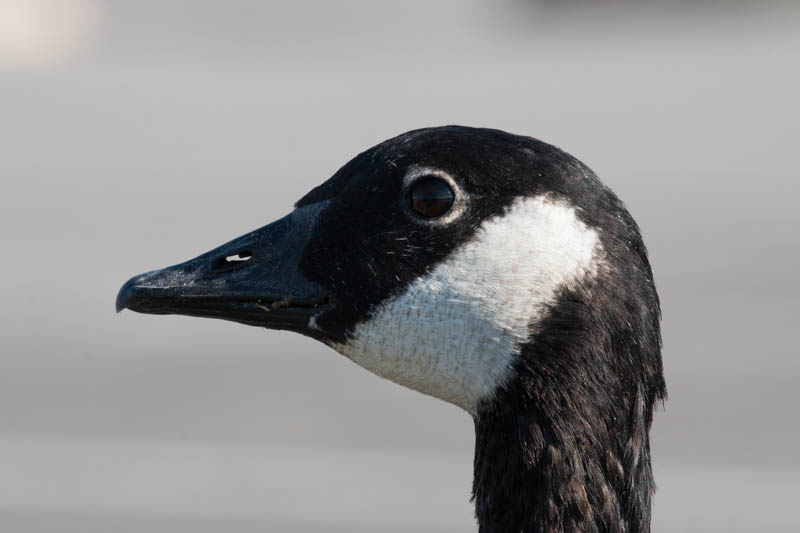goose-head: (114, 125, 662, 427)
